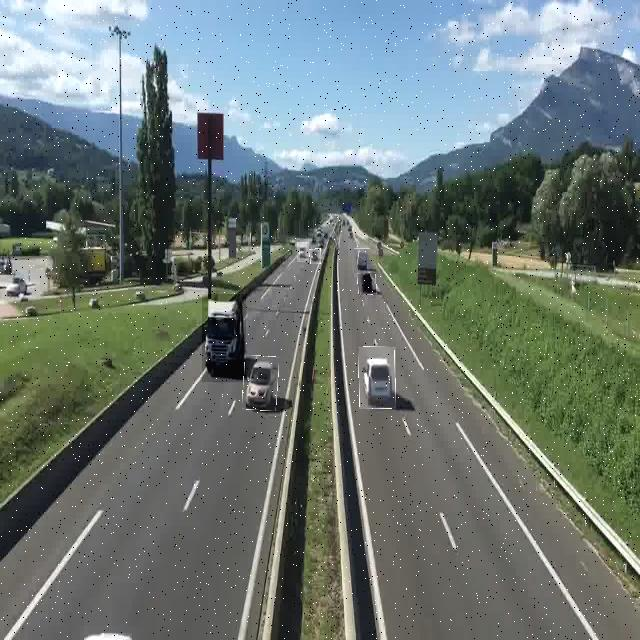Car: (359, 347, 396, 409), (243, 356, 279, 410), (354, 248, 370, 273), (358, 273, 376, 295), (297, 242, 309, 262), (310, 249, 321, 264)
Truck: (202, 294, 246, 382)
